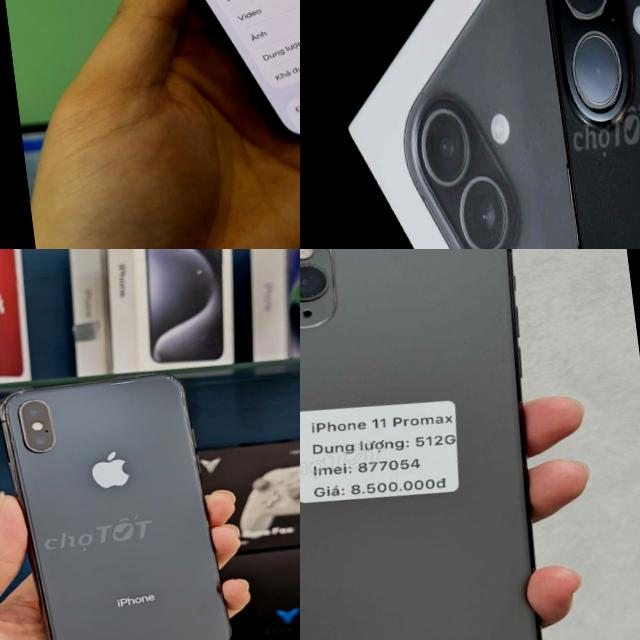gen_11: (300, 249, 575, 640)
gen_15: (84, 0, 300, 165)
gen_16: (517, 0, 640, 249)
gen_x_xs: (0, 346, 265, 640)
